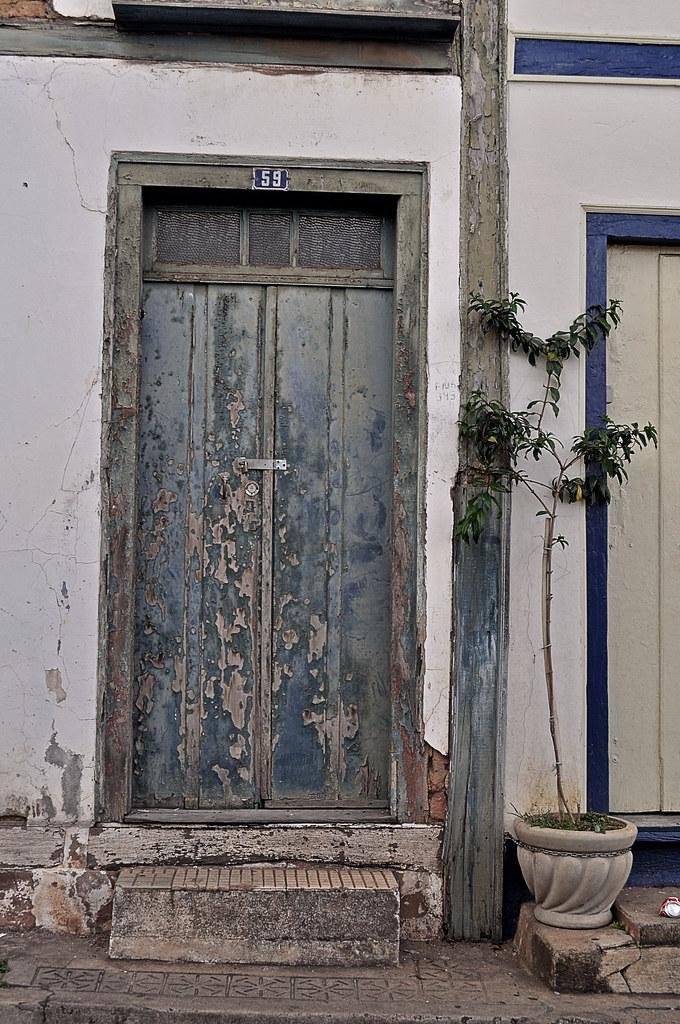door: (128, 186, 401, 819)
